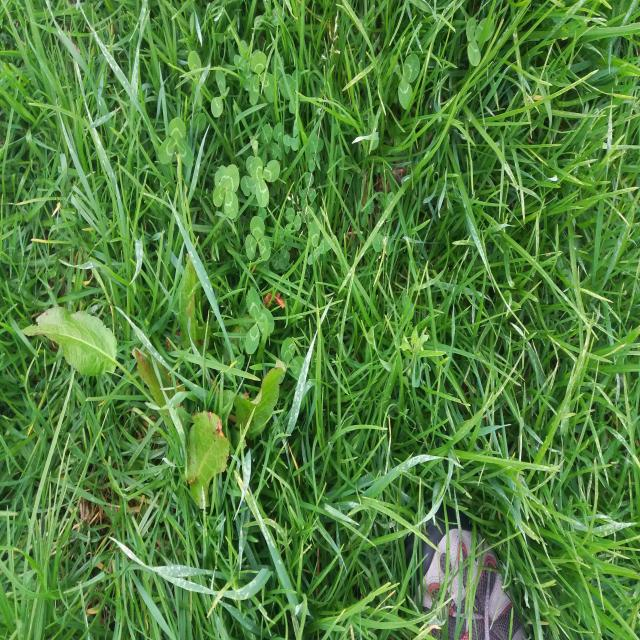Four Leaf Clover: (213, 163, 240, 219)
